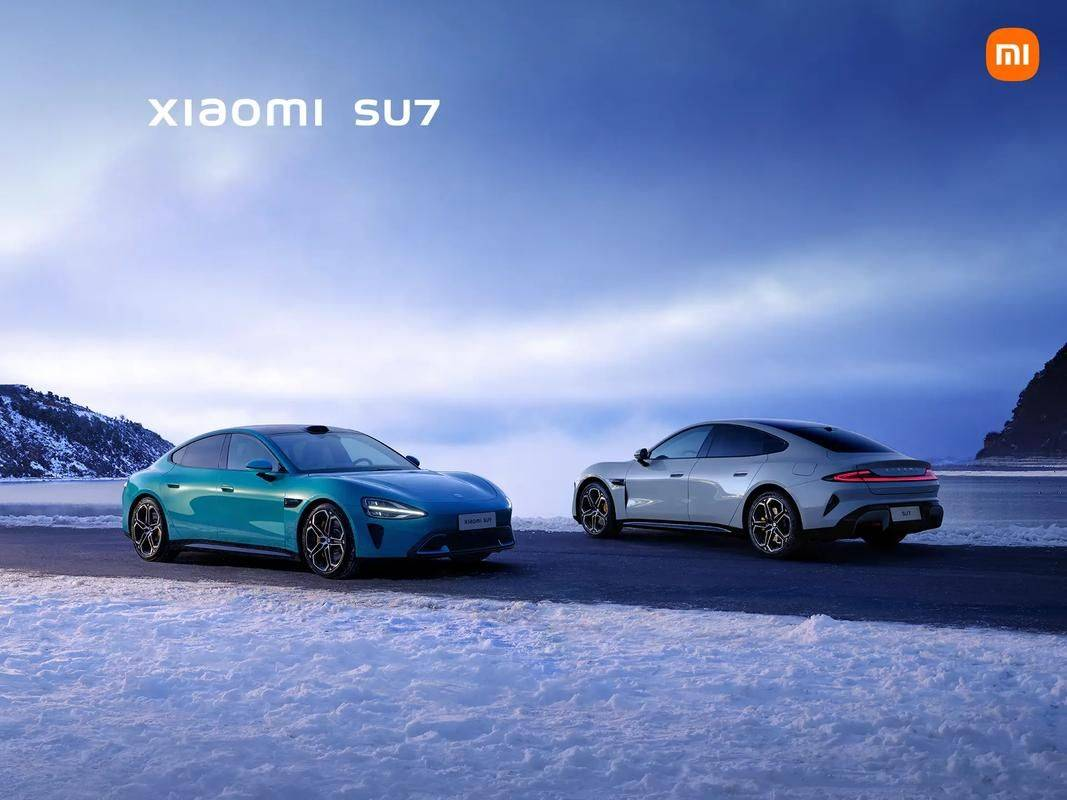su7: (117, 415, 513, 578), (573, 415, 946, 559)
